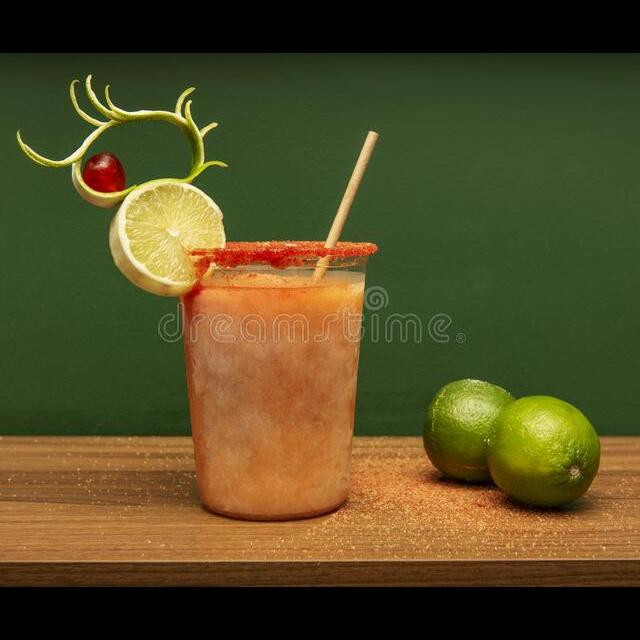lime: (477, 388, 605, 515), (414, 368, 535, 487)
